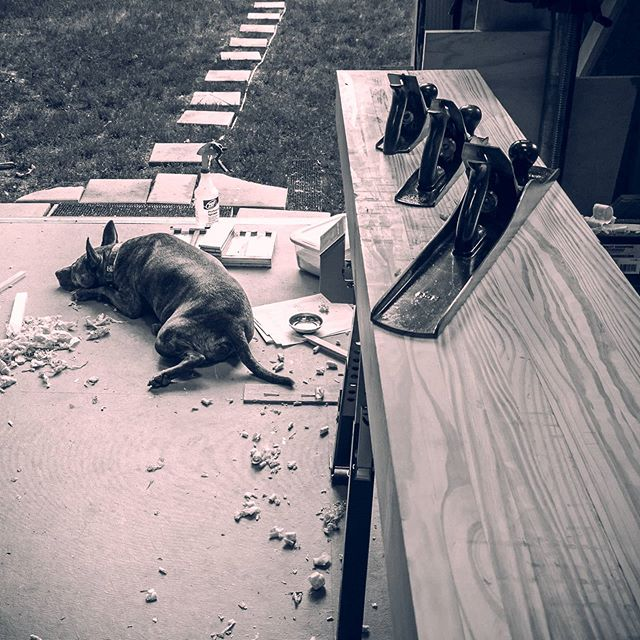animal: (48, 218, 282, 390)
